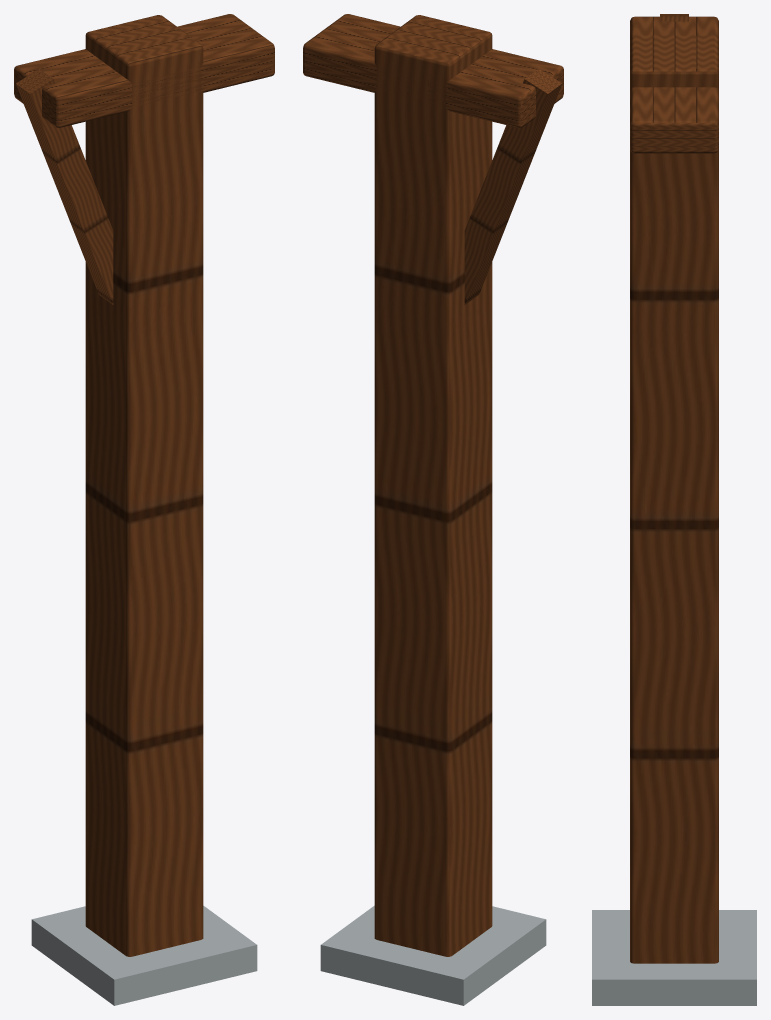
Rendered from prehistoric-survivor-settlement-forked-ridge-support-c19fdd93__23194.glb.
3 views of the same model, side by side, from view 1: azimuth 30°, elevation 25°; view 2: azimuth 150°, elevation 25°; view 3: azimuth 270°, elevation 25° (orthographic).
Visible parts, largest first — view 1: forked-ridge-support; view 2: forked-ridge-support; view 3: forked-ridge-support.
Part boxes in pixels (x1=…): forked-ridge-support: x1=14, y1=14, x2=274, y2=1005; forked-ridge-support: x1=303, y1=14, x2=563, y2=1005; forked-ridge-support: x1=592, y1=14, x2=756, y2=1005.
Size of the model in its own units: 0.7374 by 2.8 by 0.455.
2 materials, 1 textured.
